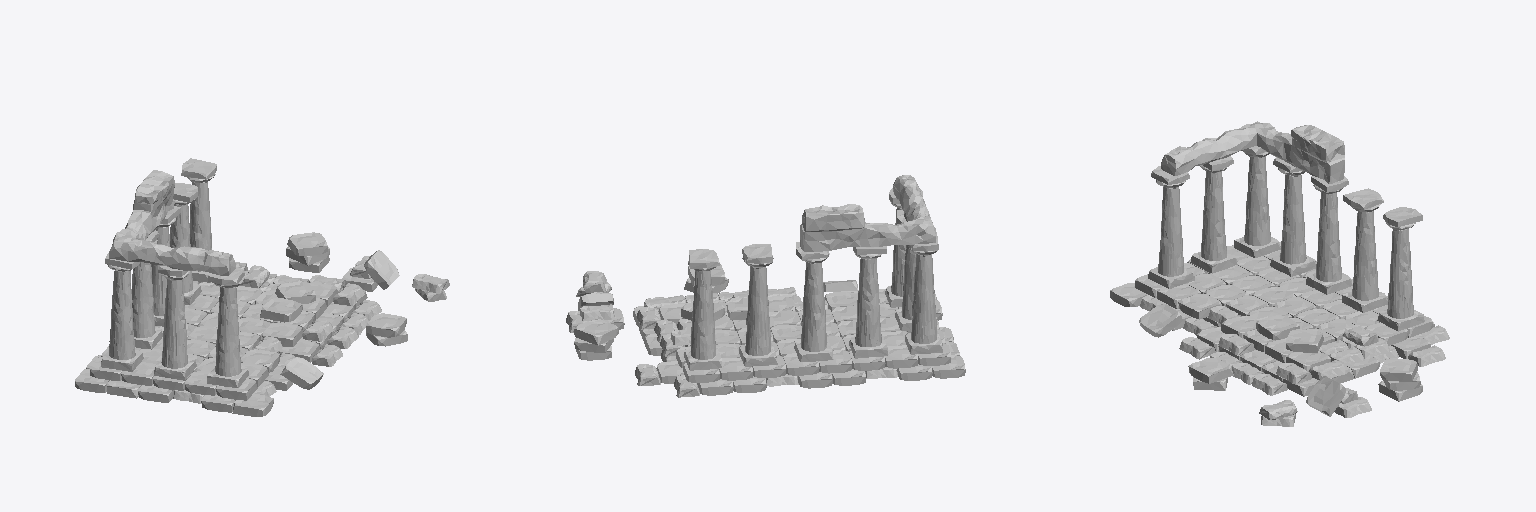
File: temple.obj
3 renders of one model, left to right at view 1: azimuth 30°, elevation 25°; view 2: azimuth 150°, elevation 25°; view 3: azimuth 270°, elevation 25°, orthographic.
Visible parts, largest first — view 1: temple; view 2: temple; view 3: temple.
Boxes of the visible parts, box(x1,y1,x2,y2) form: temple: box(75, 158, 449, 416); temple: box(566, 175, 965, 397); temple: box(1110, 121, 1449, 426).
Size of the model in its own units: 38.93 by 15.91 by 30.31.